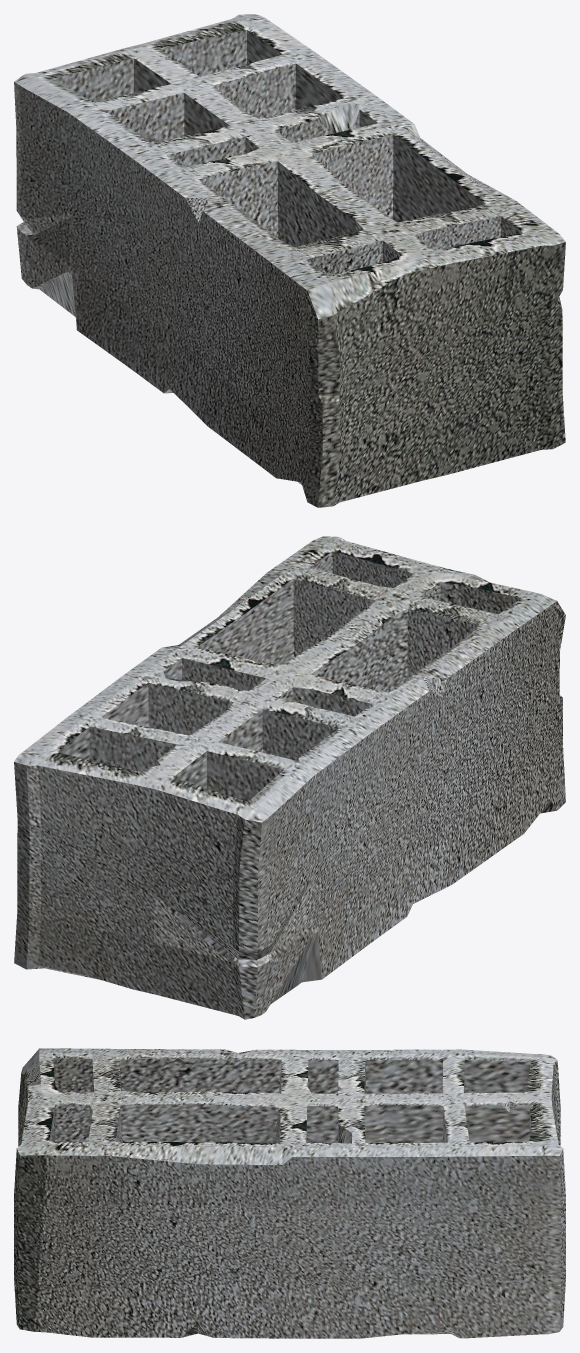
Rendered from SM_Cinderblock00.fbx.
3 views of the same model, one above another, from view 1: azimuth 30°, elevation 25°; view 2: azimuth 150°, elevation 25°; view 3: azimuth 270°, elevation 25° (orthographic). The views are drawn at different scales.
Visible parts, largest first — view 1: SM_Cinderblock00; view 2: SM_Cinderblock00; view 3: SM_Cinderblock00.
Boxes of the visible parts, x1,y1,x2,y2 form: SM_Cinderblock00: (14, 14, 565, 507); SM_Cinderblock00: (14, 536, 565, 1019); SM_Cinderblock00: (14, 1048, 565, 1338).
Bounding box in the file's own units: 52.92 × 43.36 × 115.
